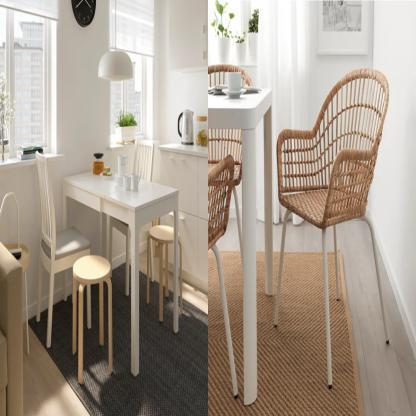chair: (278, 67, 401, 391), (201, 57, 254, 323), (27, 155, 91, 342), (206, 153, 237, 401), (69, 255, 119, 385), (147, 221, 184, 332)
clock: (69, 0, 96, 31)
light: (96, 0, 136, 83)
sofa: (0, 240, 24, 416)
table: (65, 172, 182, 377), (209, 84, 273, 416), (159, 139, 204, 288)
